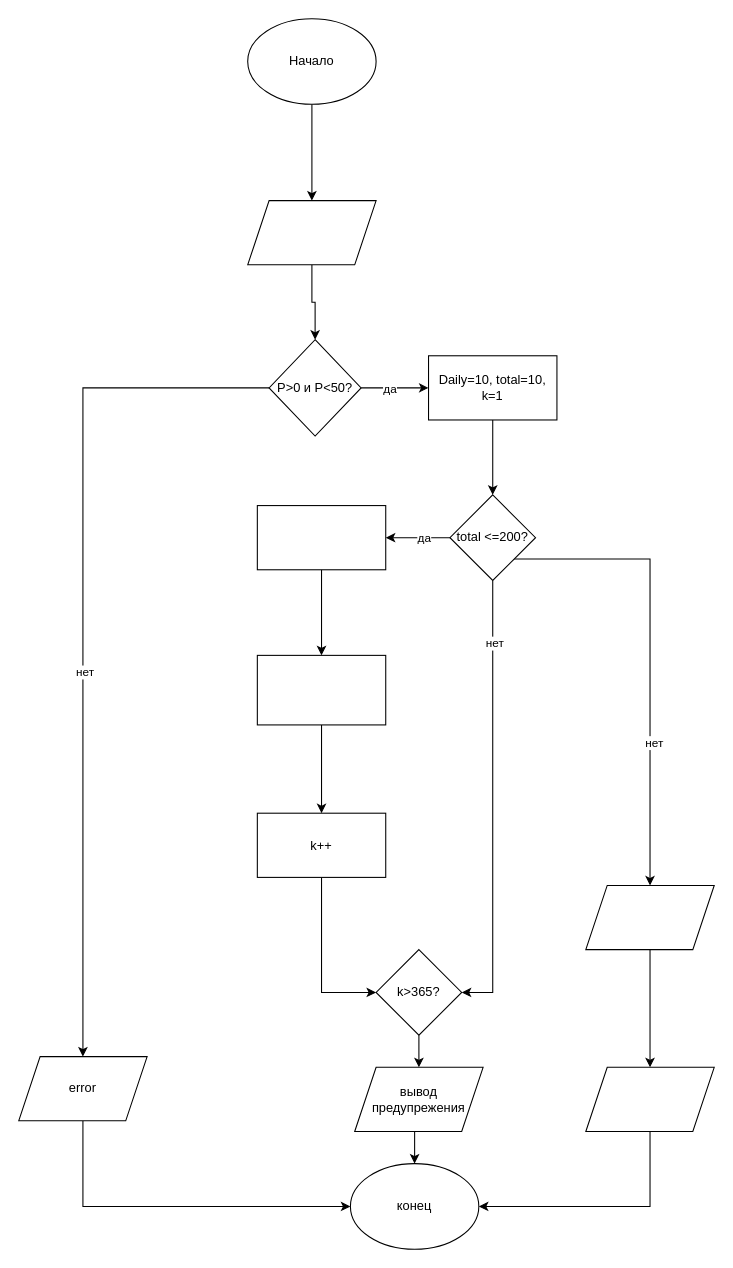
Image size: 733x1268. Some labels were removed from this diagram. Each missing label, with the centre of its shape:
"daily+=p%" goes at [321,537].
"K, total" goes at [649,917].
"Total+=daily" goes at [321,689].
"Ввод P" goes at [311,232].
"пробег по дням" goes at [649,1099].
